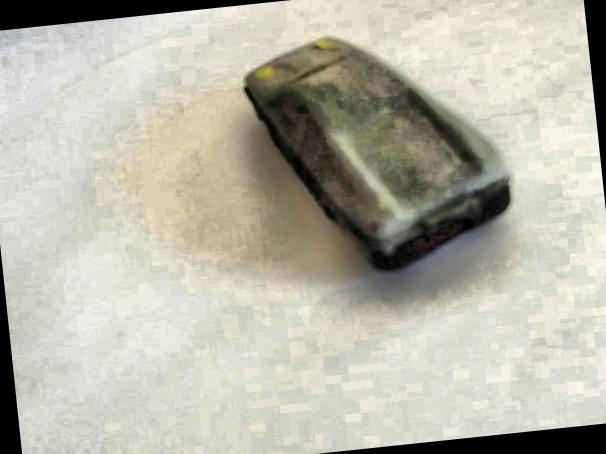normal_car: (220, 7, 534, 297)
